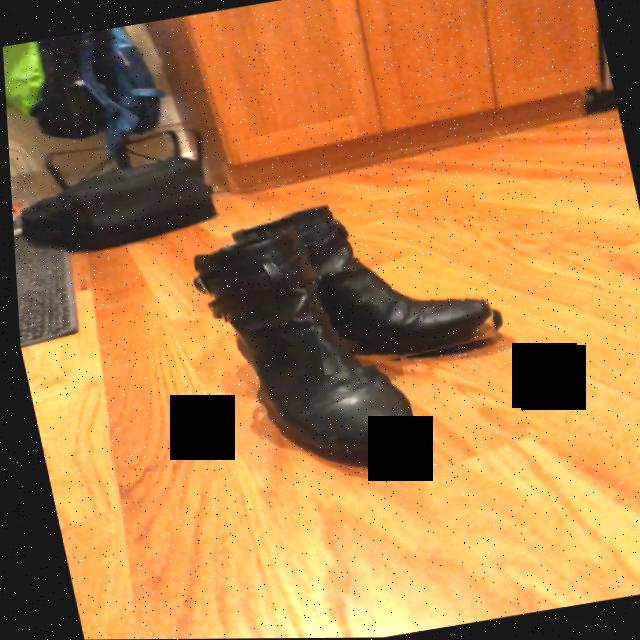shoe: (208, 254, 416, 471), (289, 208, 491, 357)
